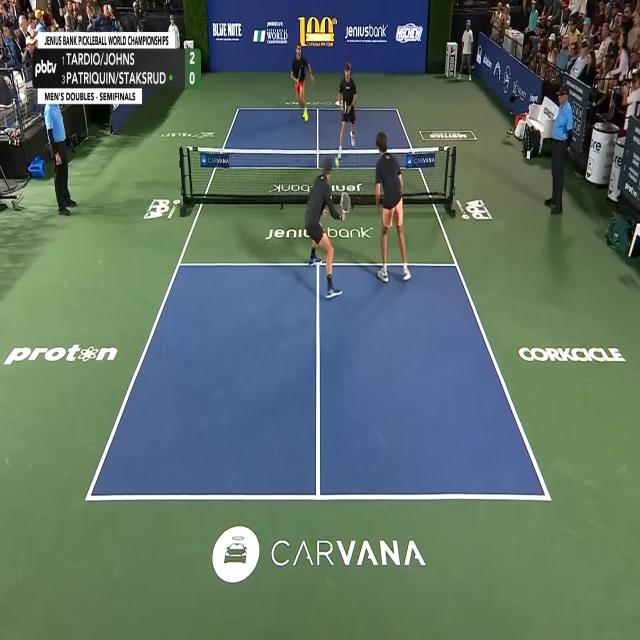ball: (336, 156, 338, 166)
